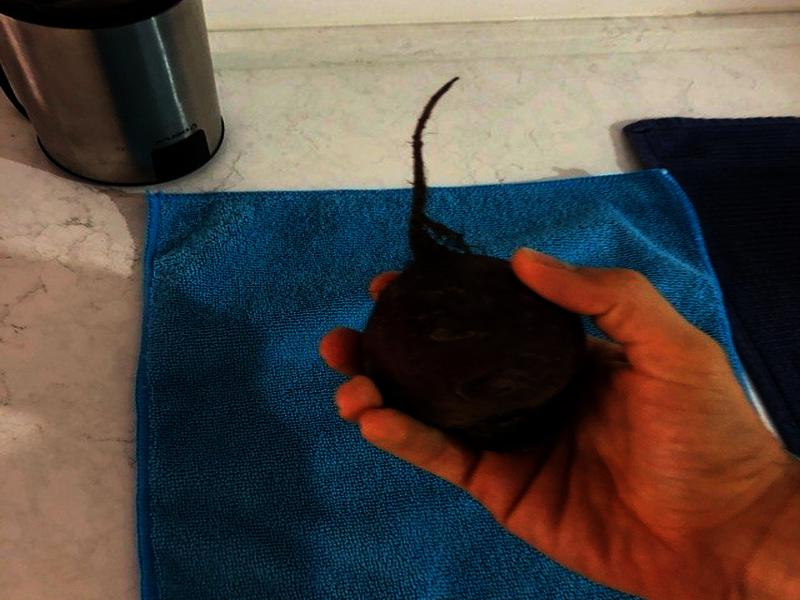Beet: (359, 78, 585, 452)
